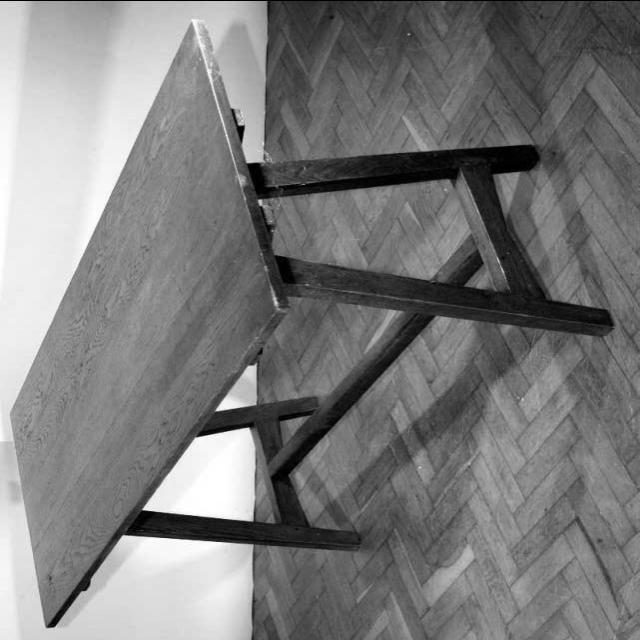table: (12, 20, 608, 626)
